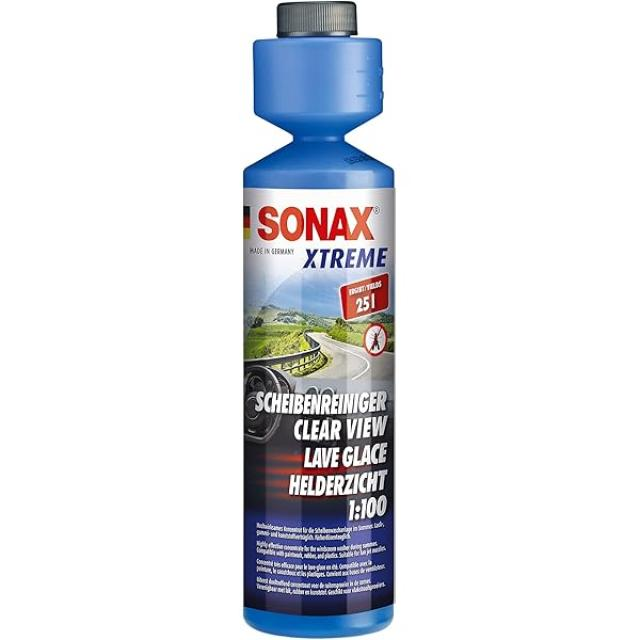winwinshield_washer: (236, 3, 401, 640)
